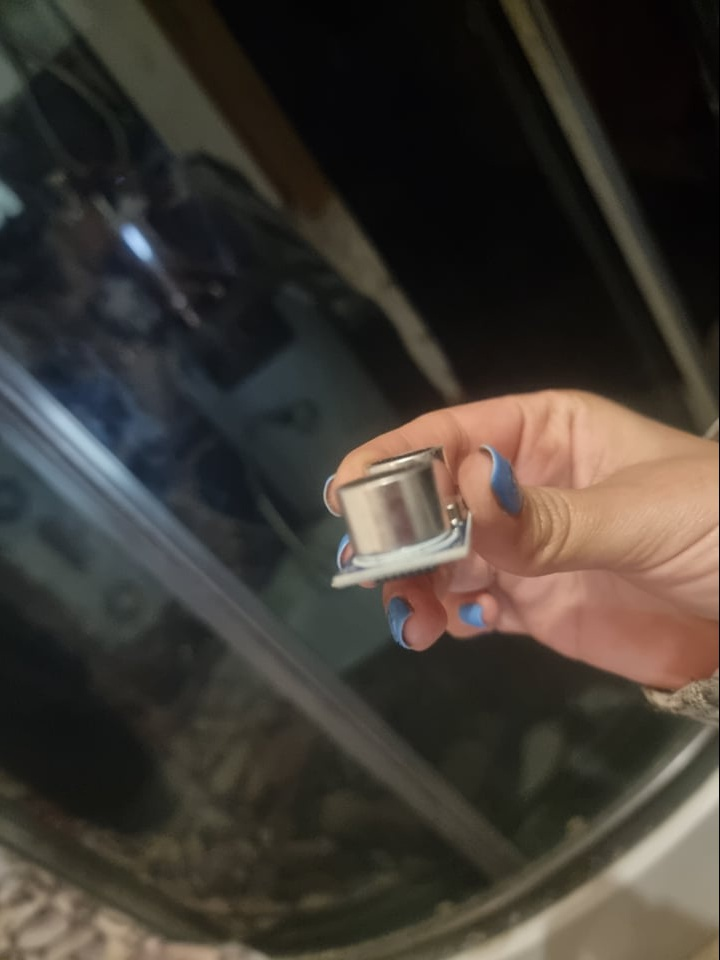SENSOR: (331, 444, 474, 591)
